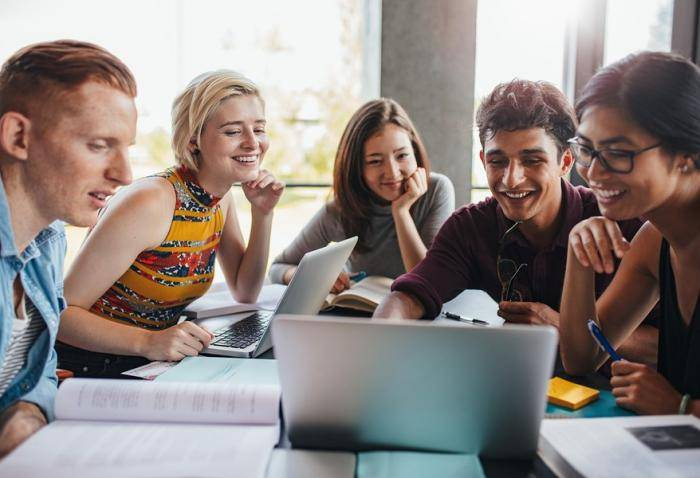Person: (563, 57, 700, 431), (150, 68, 286, 365), (1, 47, 144, 326), (315, 91, 431, 307), (458, 76, 558, 281)
